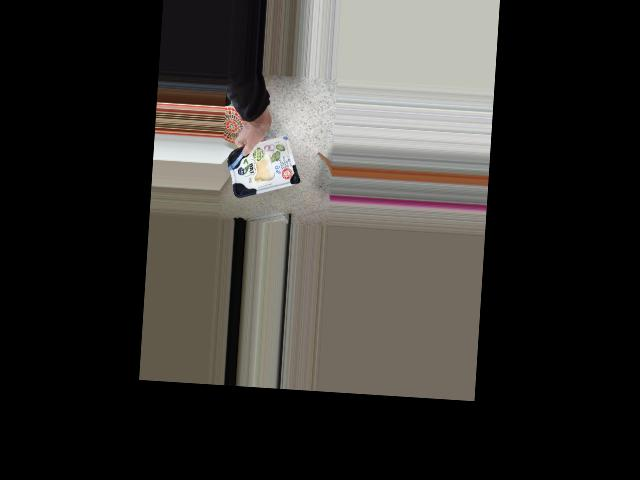cheese: (224, 133, 303, 202)
